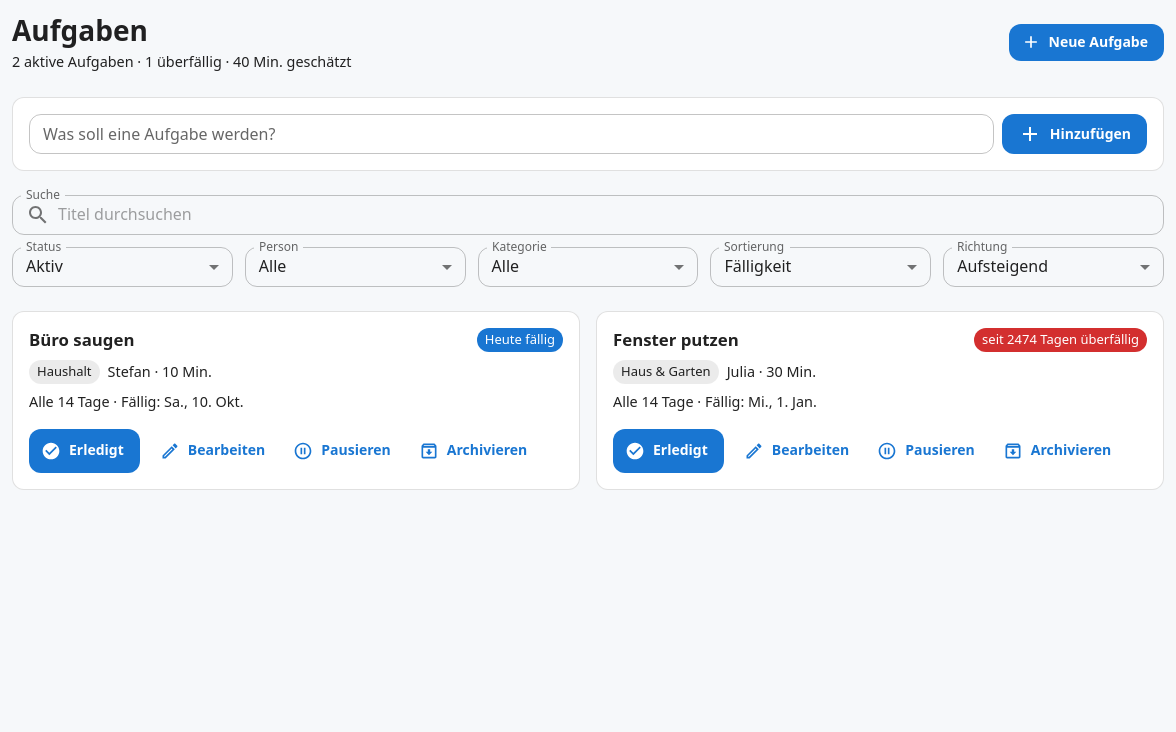
Test: TennersPage › combines active, inactive and archived Tenners for status 'all'
The width and height of the screenshot is (1176, 732).
Expected: the link "Büro saugen" is shown, [29, 328, 134, 351]
Click the dropdown named "Status": {"x": 44, "y": 266} [26, 256, 63, 278]
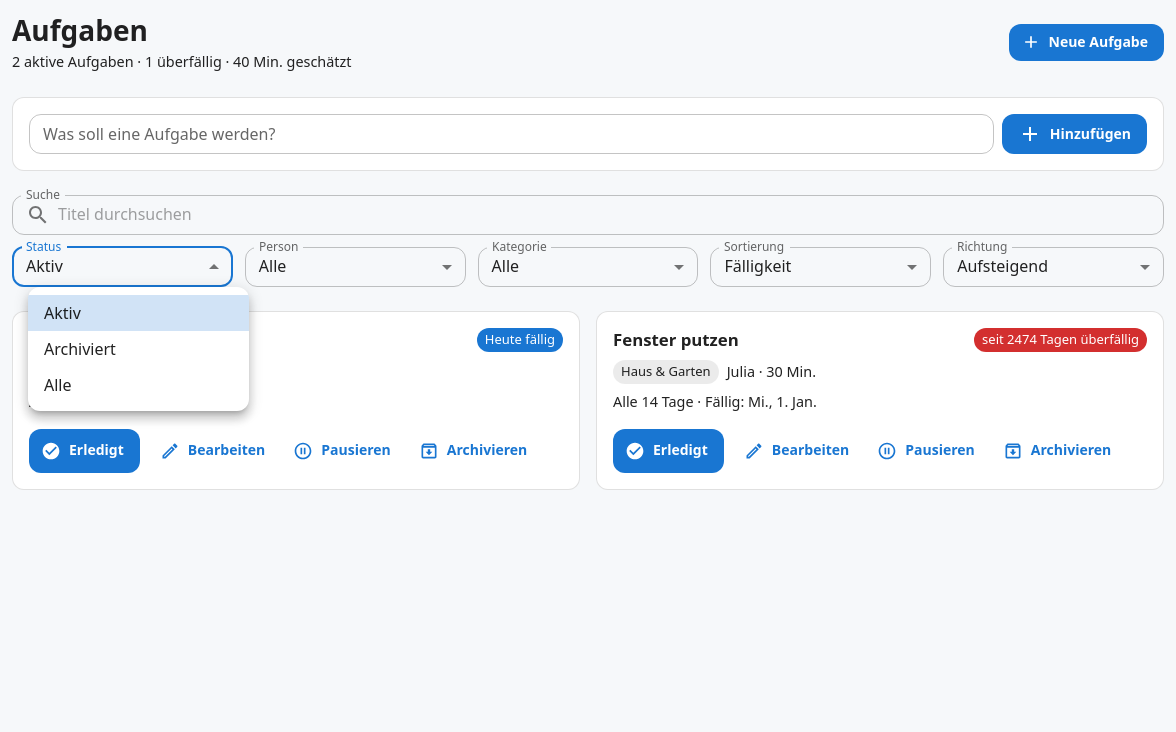
Click the option "Alle": {"x": 58, "y": 385} [44, 374, 72, 396]
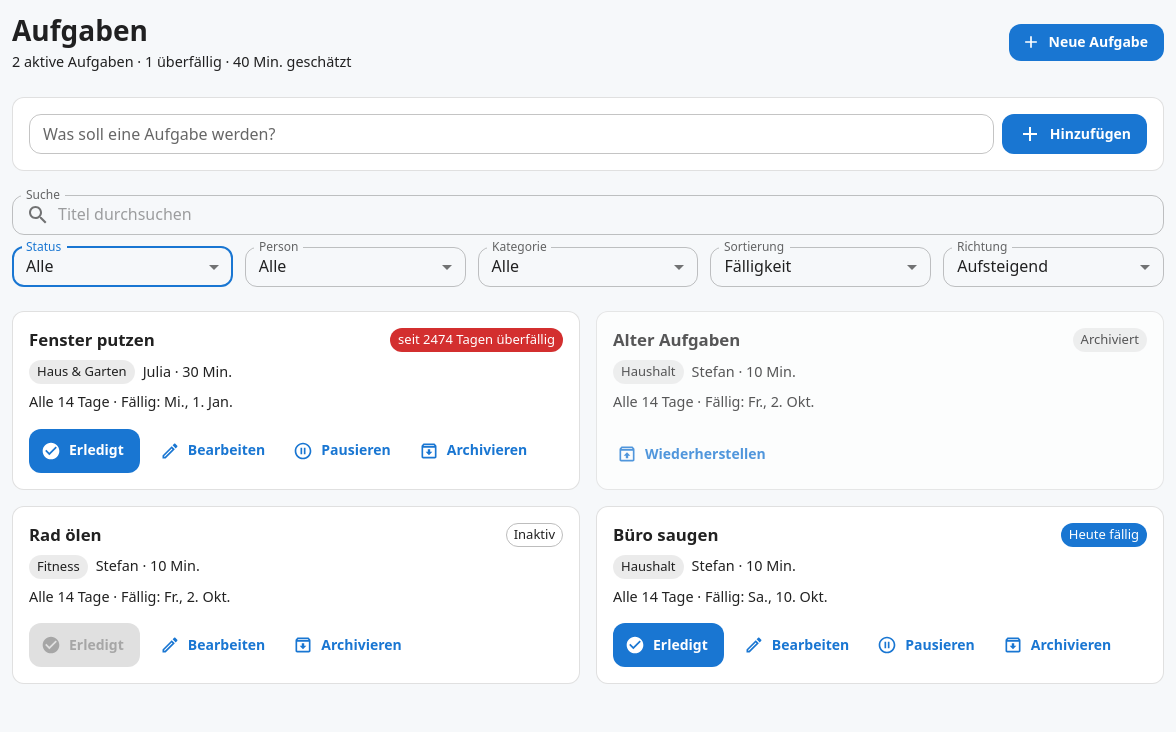
Result: the link "Rad ölen" is shown at [29, 523, 102, 546]
Result: the link "Alter Aufgaben" is shown at [613, 328, 740, 351]
Result: the text "Inaktiv" is shown at [514, 525, 555, 543]
